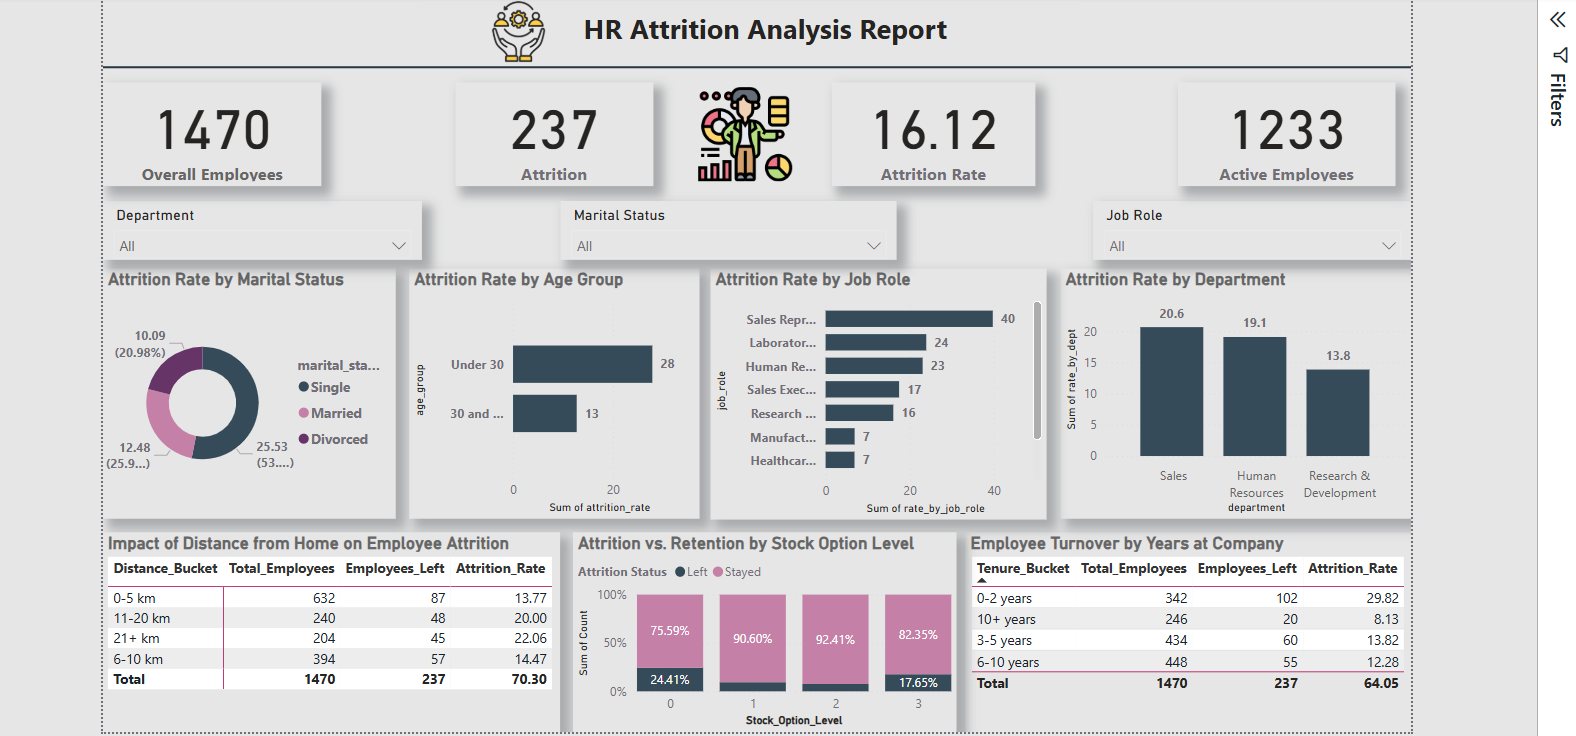

This screenshot's page, from the dashboard's own definition file:
{"tool":"powerbi","page":{"name":"Page 1","canvas":[1280,720],"ordinal":0},"visuals":[{"type":"donutChart","title":"Attrition Rate by Marital Status","fields":{"Y":["Sum(marital_status.attrition_rate)"],"Category":["marital_status.marital_status"]},"box":[0,266.6,286.1,244.6],"z":0},{"type":"clusteredBarChart","title":"Attrition Rate by Age Group","fields":{"Category":["age.age_group"],"Y":["Sum(age.attrition_rate)"]},"box":[299.6,266.6,283.7,244.6],"z":1000},{"type":"tableEx","title":"Employee Turnover by Years at Company","fields":{"Values":["attrition_rate_by_Job_Role_&_dept.tenure_bucket","Sum(attrition_rate_by_Job_Role_&_dept.total_employees)","Sum(attrition_rate_by_Job_Role_&_dept.employees_left)","Sum(attrition_rate_by_Job_Role_&_dept.attrition_rate)"]},"box":[843.8,524.6,436.6,195.7],"z":2000},{"type":"pivotTable","title":"Impact of Distance from Home on Employee Attrition","fields":{"Rows":["dist_frm_hm_inf_ attr.distance_bucket"],"Values":["Sum(dist_frm_hm_inf_ attr.total_employees)","Sum(dist_frm_hm_inf_ attr.employees_left)","Sum(dist_frm_hm_inf_ attr.attrition_rate)"]},"box":[0,524.6,447.6,195.7],"z":3000},{"type":"clusteredColumnChart","title":"Attrition Rate by Department","fields":{"Category":["atr_dept.department"],"Y":["Sum(atr_dept.rate_by_dept)"]},"box":[936.7,266.6,343.6,244.6],"z":4000},{"type":"clusteredBarChart","title":"Attrition Rate by Job Role","fields":{"Category":["at_dept.job_role"],"Y":["Sum(at_dept.rate_by_job_role)"]},"box":[594.3,266.6,328.9,245.8],"z":5000},{"type":"hundredPercentStackedColumnChart","title":"Attrition vs. Retention by Stock Option Level","fields":{"Category":["StockO_Attrition.Stock_Option_Level"],"Y":["Sum(StockO_Attrition.Count)"],"Series":["StockO_Attrition.Attrition Status"]},"box":[459.8,524.6,375.4,195.7],"z":6000},{"type":"slicer","fields":{"Values":["atr_dept.department"]},"box":[0,200.5,311.8,57.5],"z":7000},{"type":"slicer","fields":{"Values":["at_dept.job_role"]},"box":[968.5,200.5,311.8,57.5],"z":8000},{"type":"card","fields":{"Values":["Sum(total_emp.count(*))"]},"box":[0,84.4,214,101.5],"z":9000},{"type":"card","fields":{"Values":["Sum(attrition_count.count(*))"]},"box":[344.8,84.4,193.2,101.5],"z":10000},{"type":"card","fields":{"Values":["Sum(attrition_rate.attrition_rate)"]},"box":[712.9,84.4,199.3,101.5],"z":11000},{"type":"card","fields":{"Values":["Sum(active_employees.emp_count)"]},"box":[1051.6,84.4,212.8,101.5],"z":12000},{"type":"slicer","fields":{"Values":["marital_status.marital_status"]},"box":[447.6,200.5,328.9,57.5],"z":13000},{"type":"shape","box":[0,55,1280.3,29.3],"z":14000},{"type":"textbox","box":[311.8,8.6,645.7,46.5],"z":15000},{"type":"image","box":[571.1,84.4,114.9,101.5],"z":15001},{"type":"image","box":[353.4,0,106.4,69.7],"z":15002}]}

Visuals, with their boxes on the page's 1280x720 design canvas (x1, y1, x2, y2). These are canvas units, not pixel positions in the 1576x736 screenshot, which may show the page scaled, cropped or inside an application window:
"Attrition Rate by Marital Status" donutChart: box(0, 267, 286, 511)
"Attrition Rate by Age Group" clusteredBarChart: box(300, 267, 583, 511)
"Employee Turnover by Years at Company" tableEx: box(844, 525, 1280, 720)
"Impact of Distance from Home on Employee Attrition" pivotTable: box(0, 525, 448, 720)
"Attrition Rate by Department" clusteredColumnChart: box(937, 267, 1280, 511)
"Attrition Rate by Job Role" clusteredBarChart: box(594, 267, 923, 512)
"Attrition vs. Retention by Stock Option Level" hundredPercentStackedColumnChart: box(460, 525, 835, 720)
slicer - atr_dept.department: box(0, 200, 312, 258)
slicer - at_dept.job_role: box(968, 200, 1280, 258)
card - Sum(total_emp.count(*)): box(0, 84, 214, 186)
card - Sum(attrition_count.count(*)): box(345, 84, 538, 186)
card - Sum(attrition_rate.attrition_rate): box(713, 84, 912, 186)
card - Sum(active_employees.emp_count): box(1052, 84, 1264, 186)
slicer - marital_status.marital_status: box(448, 200, 776, 258)
shape: box(0, 55, 1280, 84)
textbox: box(312, 9, 958, 55)
image: box(571, 84, 686, 186)
image: box(353, 0, 460, 70)
